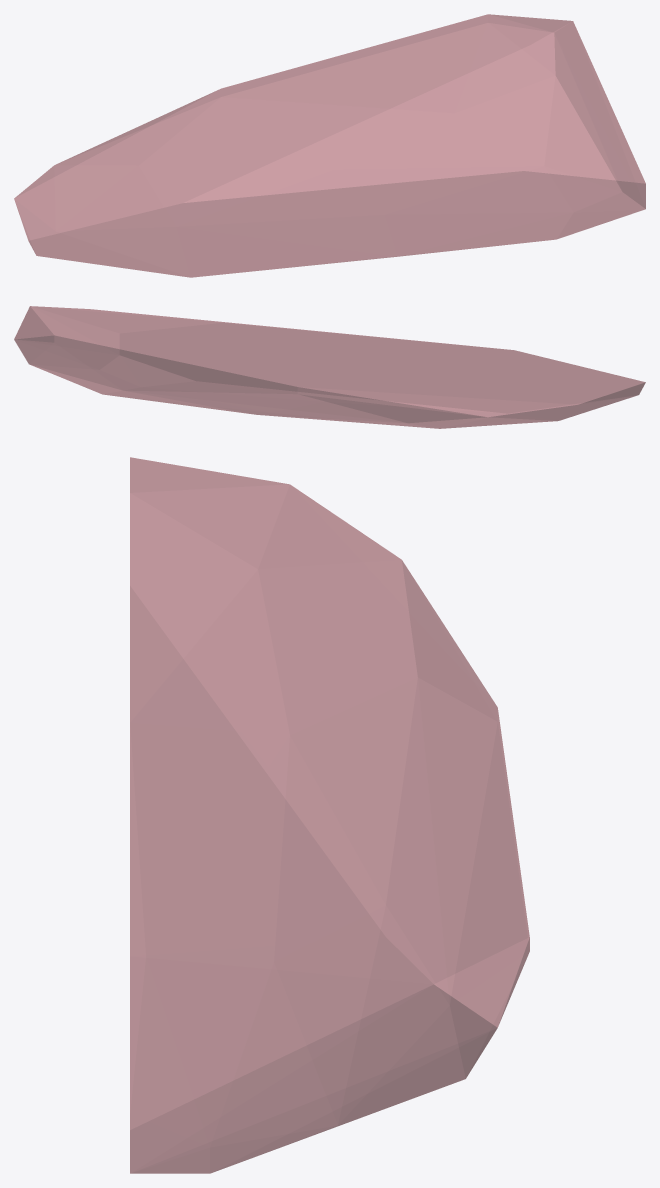
3 views of the same model, one above another, from view 1: azimuth 30°, elevation 25°; view 2: azimuth 150°, elevation 25°; view 3: azimuth 270°, elevation 25° (orthographic). The views are drawn at different scales.
Parts seen in each view (by area): view 1: Shape_IndexedFaceSet.004_Shape_IndexedFaceSet.9007; view 2: Shape_IndexedFaceSet.004_Shape_IndexedFaceSet.9007; view 3: Shape_IndexedFaceSet.004_Shape_IndexedFaceSet.9007.
Part boxes in pixels (box(x1,y1,x2,y2)): Shape_IndexedFaceSet.004_Shape_IndexedFaceSet.9007: box(14, 14, 645, 277); Shape_IndexedFaceSet.004_Shape_IndexedFaceSet.9007: box(14, 306, 645, 428); Shape_IndexedFaceSet.004_Shape_IndexedFaceSet.9007: box(130, 457, 529, 1173).
Bounding box in the file's own units: 0.0311 × 0.00598 × 0.00997.
